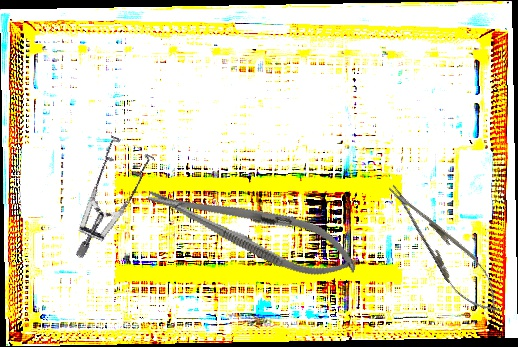Needle Holder: (140, 168, 365, 291), (376, 172, 513, 326)
Speculum: (32, 121, 180, 261)
